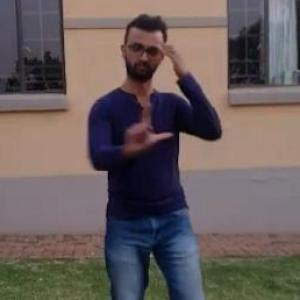land_hand: (117, 95, 171, 158)
